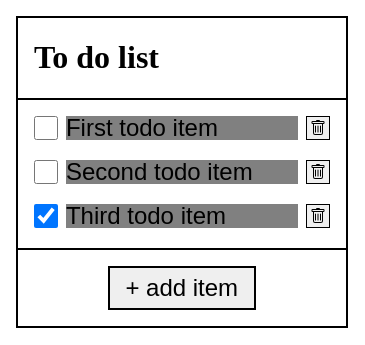
Test: TodoList › it deletes a todo item from the todo list
This screenshot has width=365, height=345.
Expected: the field with test id "description-item-1" is shown, [66,116,298,140]
Expected: the field with test id "description-item-2" is shown, [66,160,298,184]
Click the button with test id "deleteButton-item-2" at {"x": 318, "y": 172}, box [306,160,330,184]
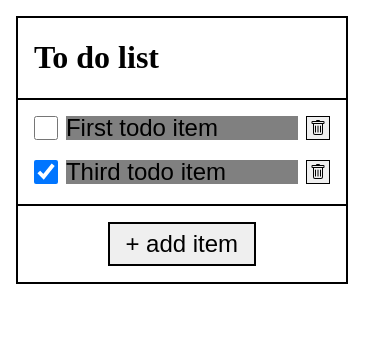
Expected: the field with test id "description-item-1" is shown, [66,116,298,140]
Result: the field with test id "description-item-2" is gone
